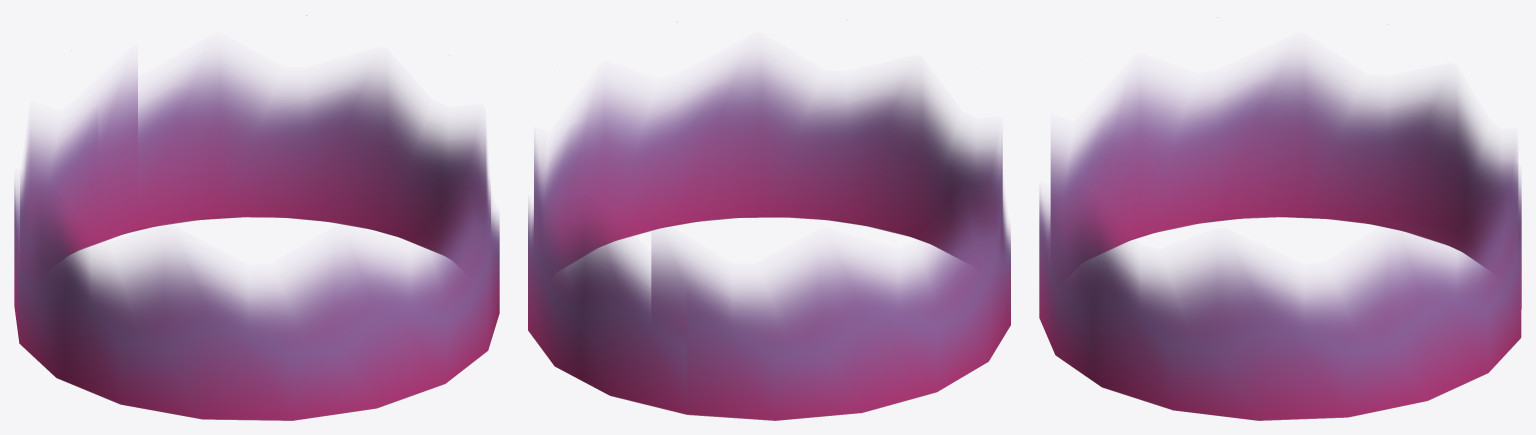
Rendered from marker.glb.
The picture shows the model from 3 angles, left to right: view 1: azimuth 30°, elevation 25°; view 2: azimuth 150°, elevation 25°; view 3: azimuth 270°, elevation 25°; orthographic projection.
Visible parts, largest first — view 1: Cylinder, Cylinder.001; view 2: Cylinder, Cylinder.001; view 3: Cylinder, Cylinder.001.
Part boxes in pixels (x1,y1,x2,y2): Cylinder: [20, 15, 490, 357]; Cylinder.001: [14, 183, 499, 420]; Cylinder: [534, 54, 1002, 357]; Cylinder.001: [528, 190, 1010, 420]; Cylinder: [1050, 24, 1518, 354]; Cylinder.001: [1039, 175, 1521, 420].
Bounding box in the file's own units: 2.05 × 0.9614 × 2.04.
1 material, 1 textured.
